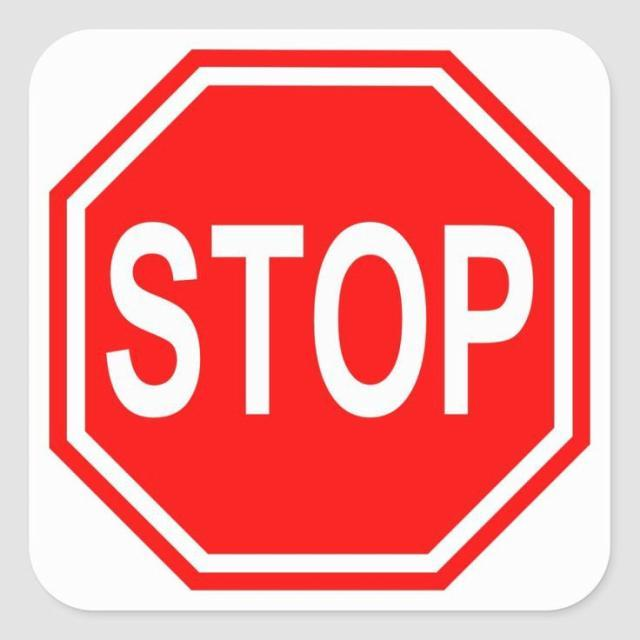stop: (33, 38, 610, 610)
